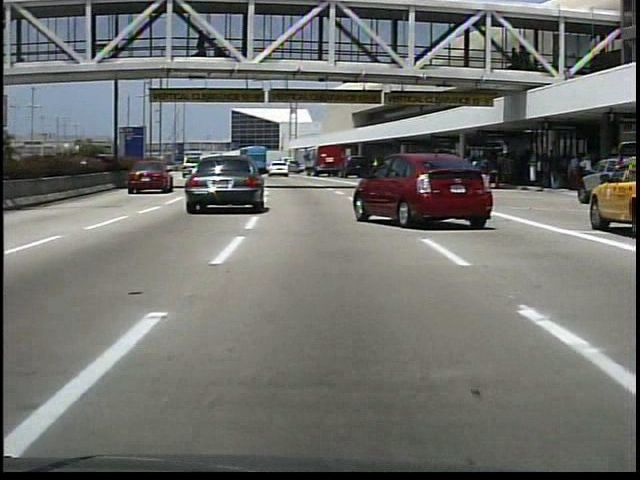person: (196, 31, 212, 59)
